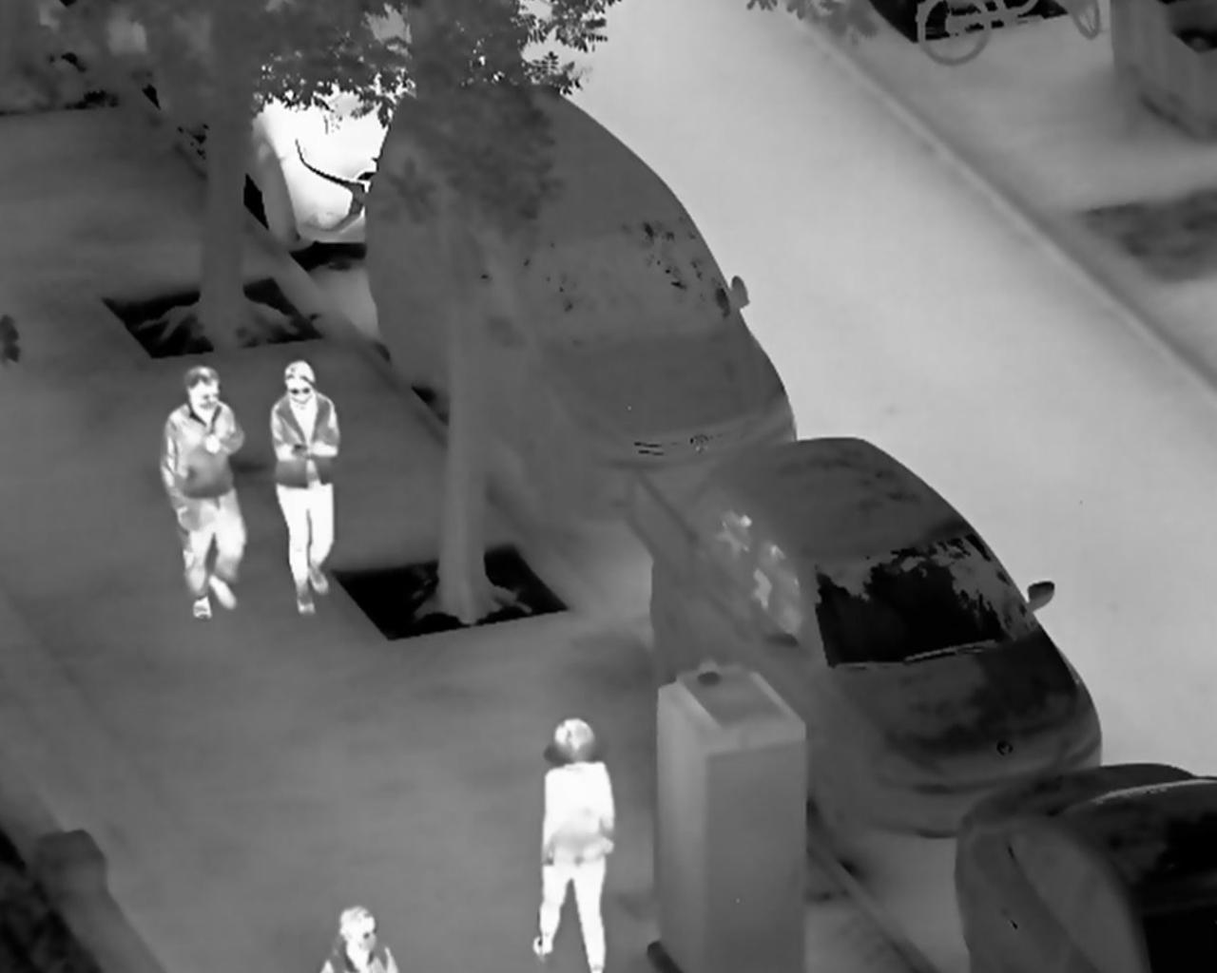person: (161, 363, 248, 623), (531, 717, 615, 973), (266, 358, 342, 619)
